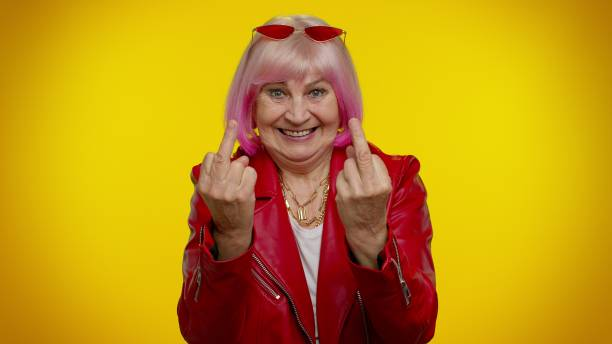insulting_gesture: (192, 117, 258, 244), (334, 114, 389, 239)
